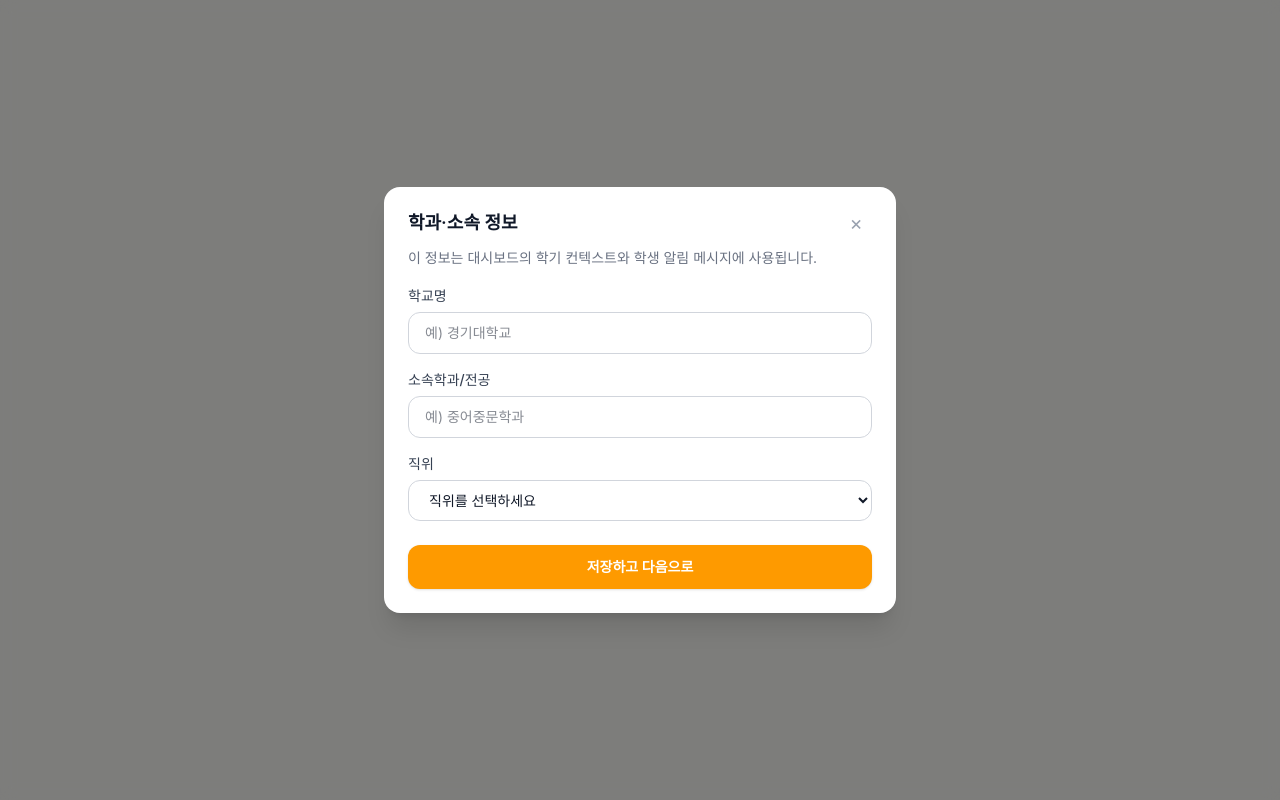
Scenario: InstructorProfileModal › blocks submit and surfaces an error when school or department is empty
Note: 학교만 채우고 학과는 비운 상태에서 제출
Type "경기대학교" into the field with test id "professor-profile-school". click: (640, 333)
box: 408,312 -> 872,354
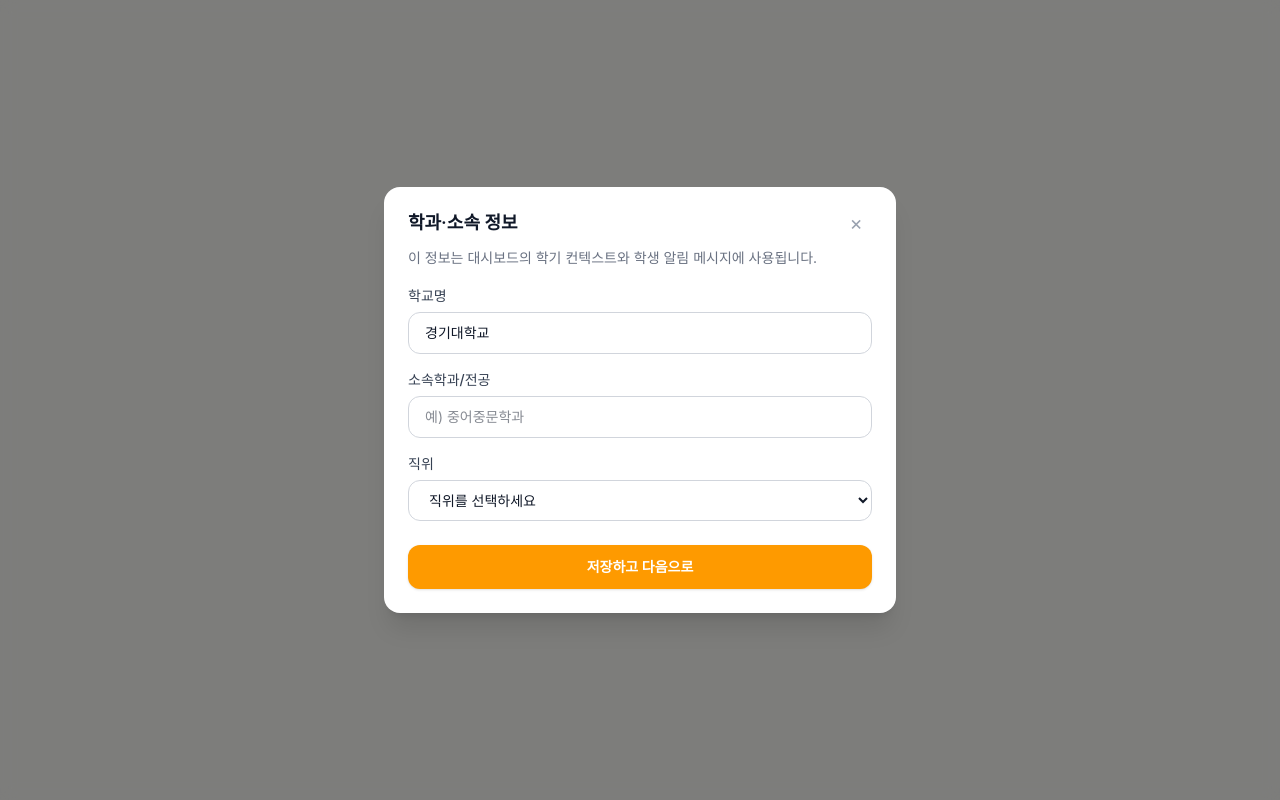
Submit the form with test id "professor-profile-form", box 408,247 -> 872,589
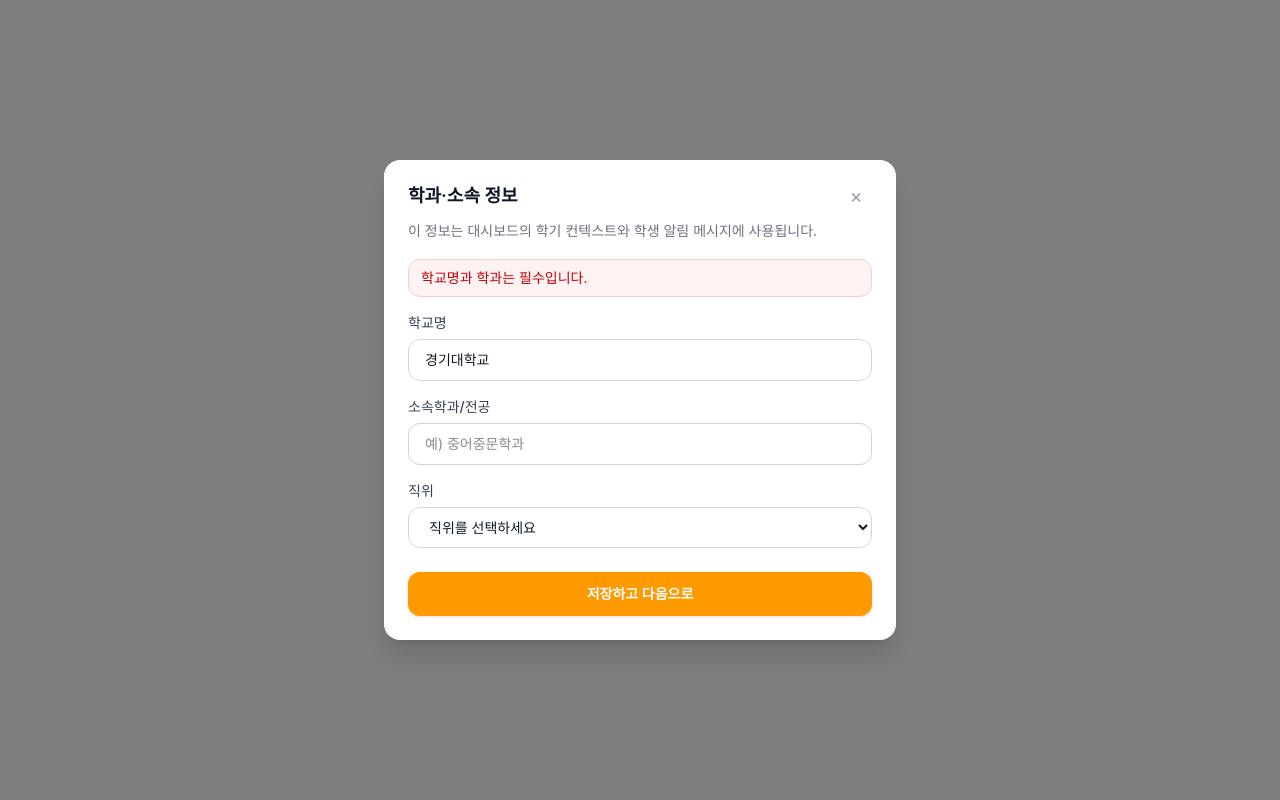
Now the message shows "필수", box 408,259 -> 872,297
